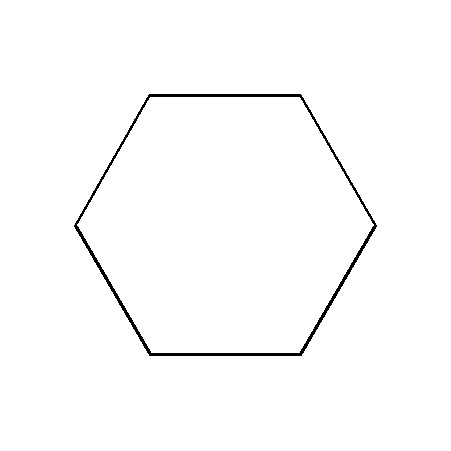line_segment: (74, 93, 377, 357)
